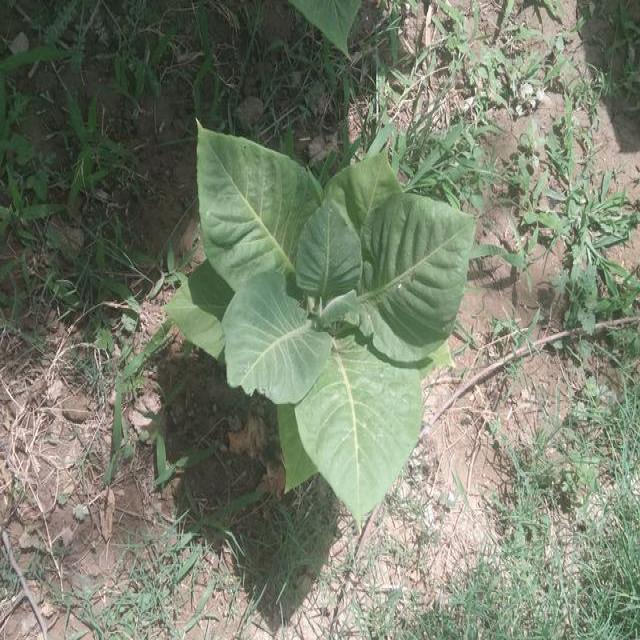crop: (178, 100, 482, 529)
